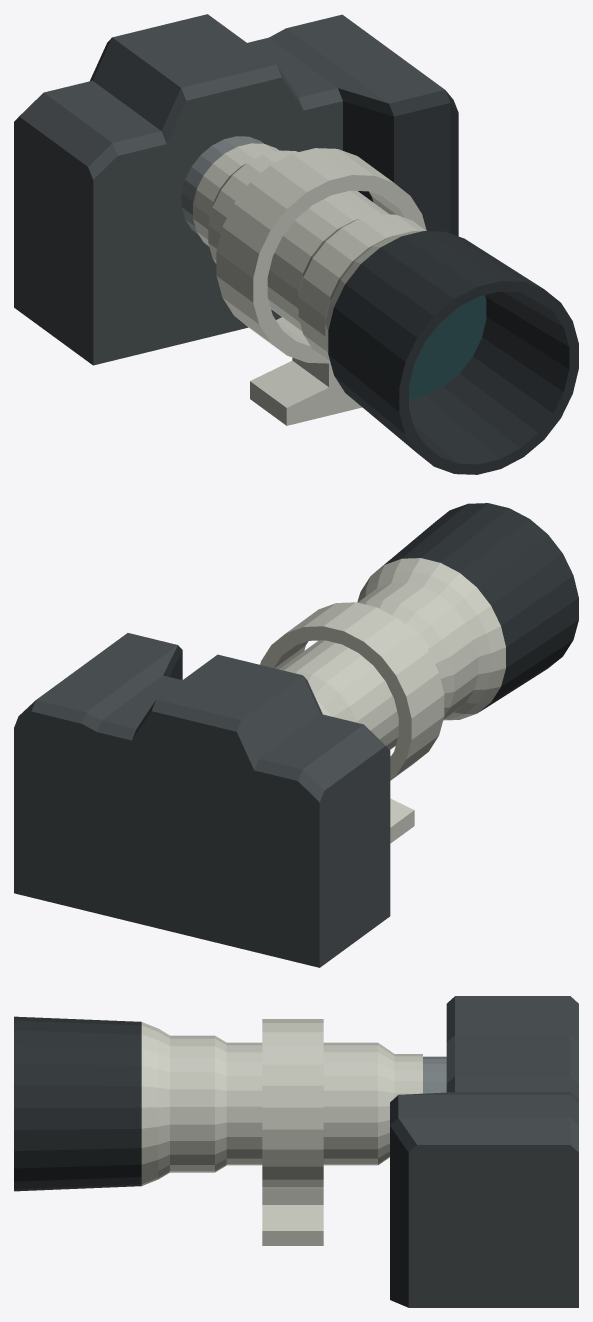
3 renders of one model, top to bottom at view 1: azimuth 30°, elevation 25°; view 2: azimuth 150°, elevation 25°; view 3: azimuth 270°, elevation 25°, orthographic. The views are drawn at different scales.
Visible parts, largest first — view 1: ContinuousShoulderGripBody, ThickDeepOpenHood, ContinuousBoredCollarNeckFoot, ContinuousSteppedLongBarrel, RecessedOpaqueOpticalAppearance, FiniteRearLensMount; view 2: ContinuousShoulderGripBody, ContinuousSteppedLongBarrel, ThickDeepOpenHood, ContinuousBoredCollarNeckFoot; view 3: ContinuousShoulderGripBody, ContinuousSteppedLongBarrel, ThickDeepOpenHood, ContinuousBoredCollarNeckFoot, FiniteRearLensMount.
Part boxes in pixels (x1,y1,x2,y2): ContinuousShoulderGripBody: [14, 14, 458, 365]; ThickDeepOpenHood: [328, 231, 578, 474]; ContinuousBoredCollarNeckFoot: [216, 148, 426, 425]; ContinuousSteppedLongBarrel: [193, 143, 425, 371]; RecessedOpaqueOpticalAppearance: [409, 295, 486, 399]; FiniteRearLensMount: [181, 136, 264, 234]; ContinuousShoulderGripBody: [14, 633, 390, 967]; ContinuousSteppedLongBarrel: [279, 558, 505, 749]; ThickDeepOpenHood: [376, 503, 578, 712]; ContinuousBoredCollarNeckFoot: [260, 602, 444, 843]; ContinuousShoulderGripBody: [390, 996, 578, 1307]; ContinuousSteppedLongBarrel: [141, 1022, 422, 1185]; ThickDeepOpenHood: [14, 1016, 141, 1191]; ContinuousBoredCollarNeckFoot: [262, 1019, 323, 1245]; FiniteRearLensMount: [423, 1056, 446, 1093].
Bounding box in the file's own units: 0.7 × 0.49 × 1.2.
